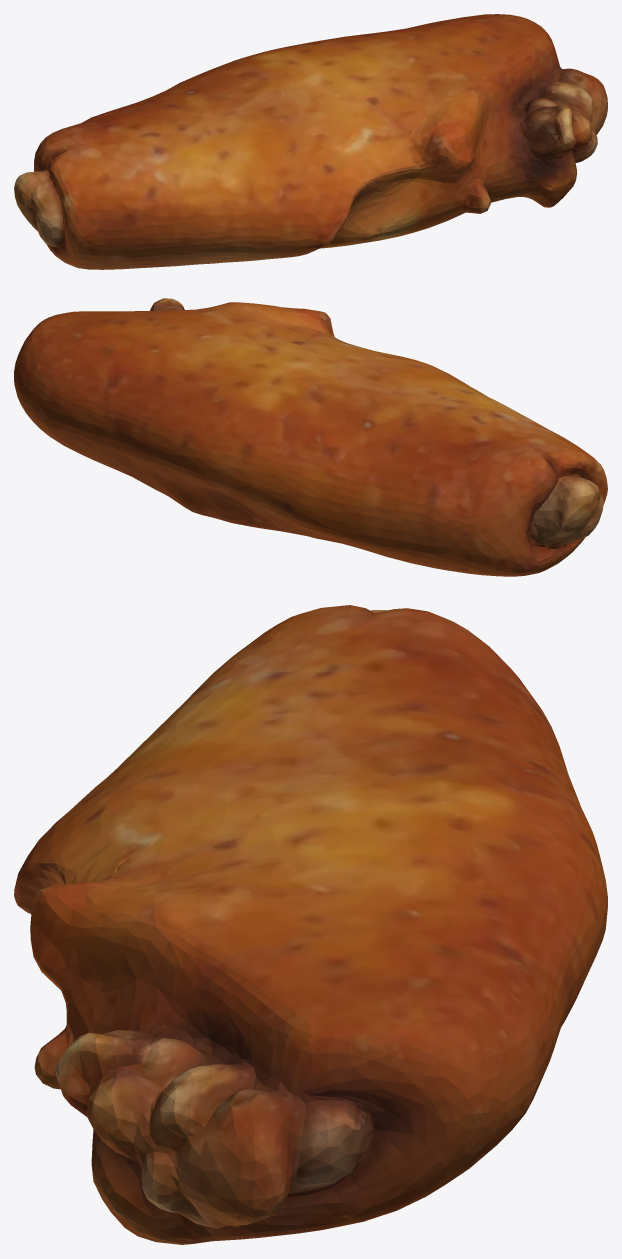
File: p_wings.glb
3 renders of one model, top to bottom at view 1: azimuth 30°, elevation 25°; view 2: azimuth 150°, elevation 25°; view 3: azimuth 270°, elevation 25°, orthographic. The views are drawn at different scales.
Visible parts, largest first — view 1: geometry_0; view 2: geometry_0; view 3: geometry_0.
Part boxes in pixels (bbox=[...]): geometry_0: bbox=[14, 14, 607, 269]; geometry_0: bbox=[14, 298, 607, 576]; geometry_0: bbox=[14, 605, 607, 1244].
Bounding box in the file's own units: 0.9997 × 0.2387 × 0.4786.
1 material, 1 textured.
